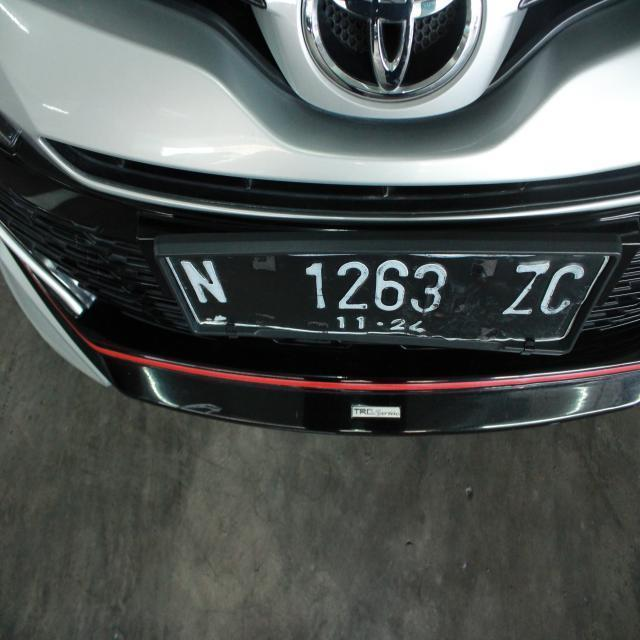1: (304, 244, 334, 320)
2: (335, 253, 372, 313)
3: (408, 252, 448, 325)
6: (371, 249, 411, 326)
C: (540, 248, 586, 325)
N: (180, 246, 236, 314)
Z: (503, 249, 551, 326)
